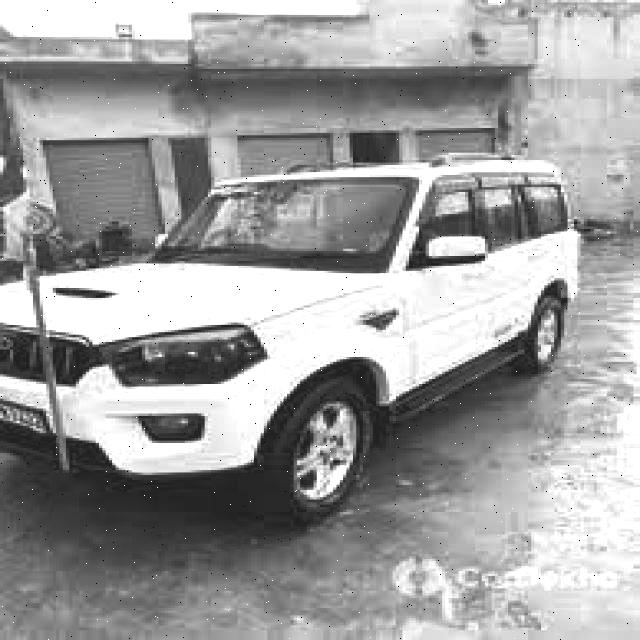Car: (0, 149, 589, 529)
